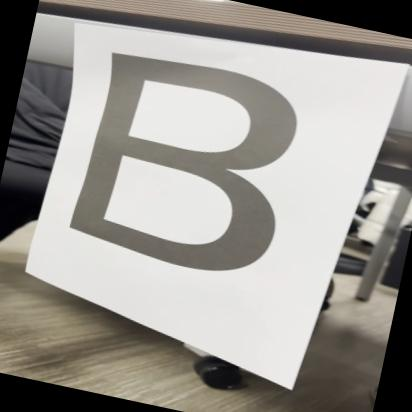seat: (54, 37, 346, 306)
